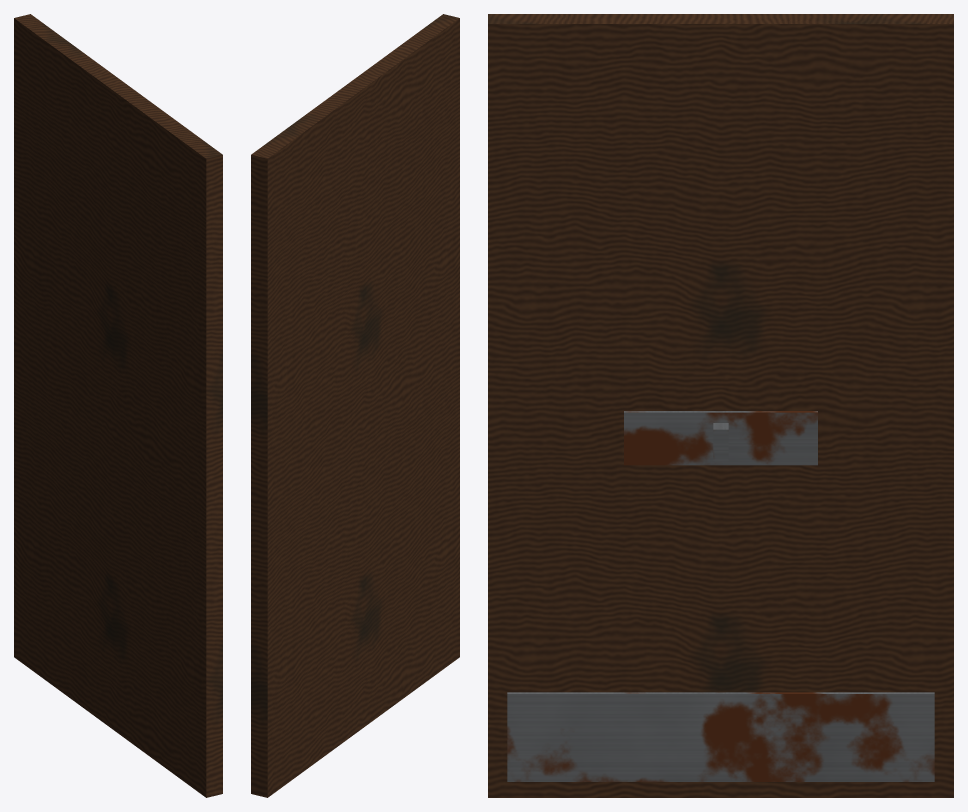
Rendered from SM_ExitDoor.fbx.
3 renders of one model, left to right at view 1: azimuth 30°, elevation 25°; view 2: azimuth 150°, elevation 25°; view 3: azimuth 270°, elevation 25°, orthographic. The views are drawn at different scales.
Visible parts, largest first — view 1: SM_ExitDoor; view 2: SM_ExitDoor; view 3: SM_ExitDoor.
Boxes of the visible parts, left/top/right/bottom form: SM_ExitDoor: left=14, top=14, right=222, bottom=797; SM_ExitDoor: left=251, top=14, right=459, bottom=797; SM_ExitDoor: left=488, top=14, right=953, bottom=797.
Size of what is drawn, in the model's own units: 0.11 by 2.2 by 1.2.
2 materials, 2 textured.
